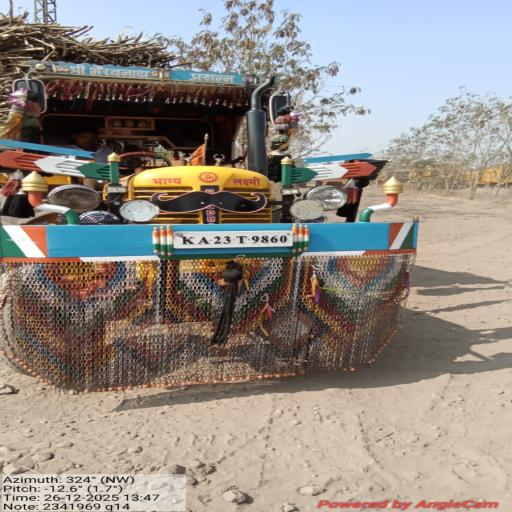number_plate: (156, 217, 307, 254)
